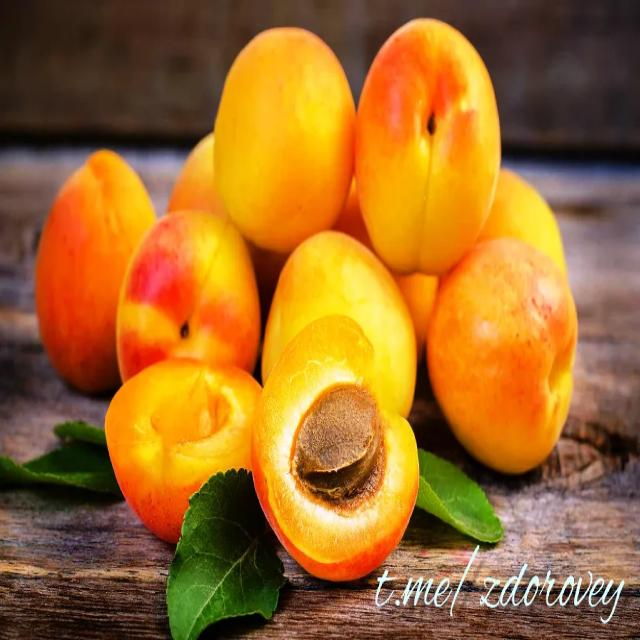Cekirdek: (291, 386, 382, 503)
Kayisi: (355, 20, 499, 274), (105, 360, 259, 542), (117, 212, 259, 380)
Yaprak: (167, 469, 285, 639)
